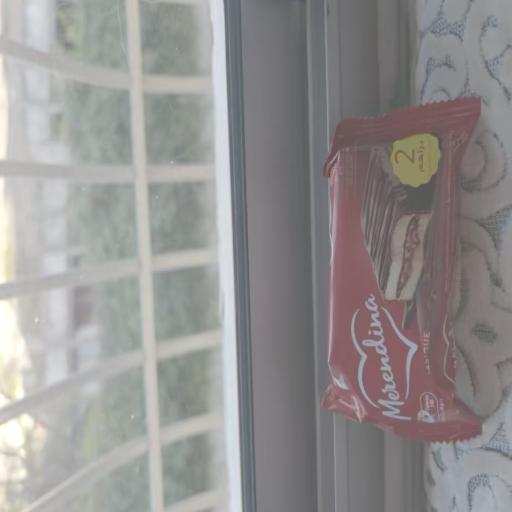merendina: (312, 98, 512, 510)
